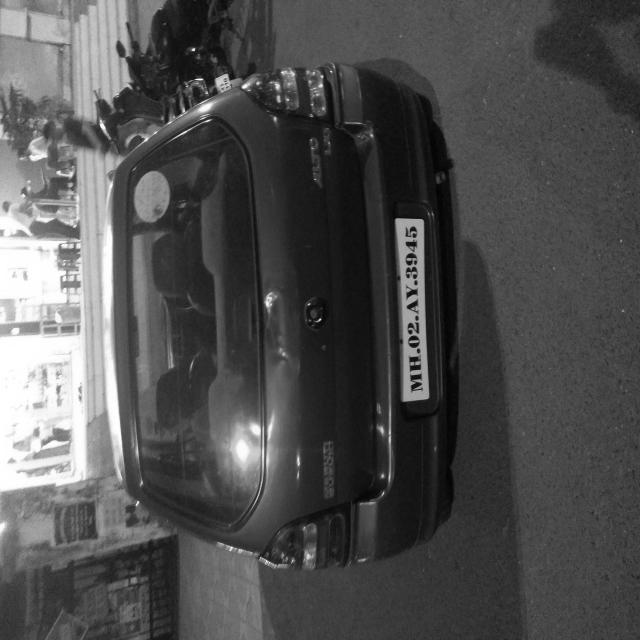car: (48, 132, 437, 616), (180, 530, 315, 572)
